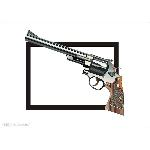Pistol: (25, 30, 125, 116)
